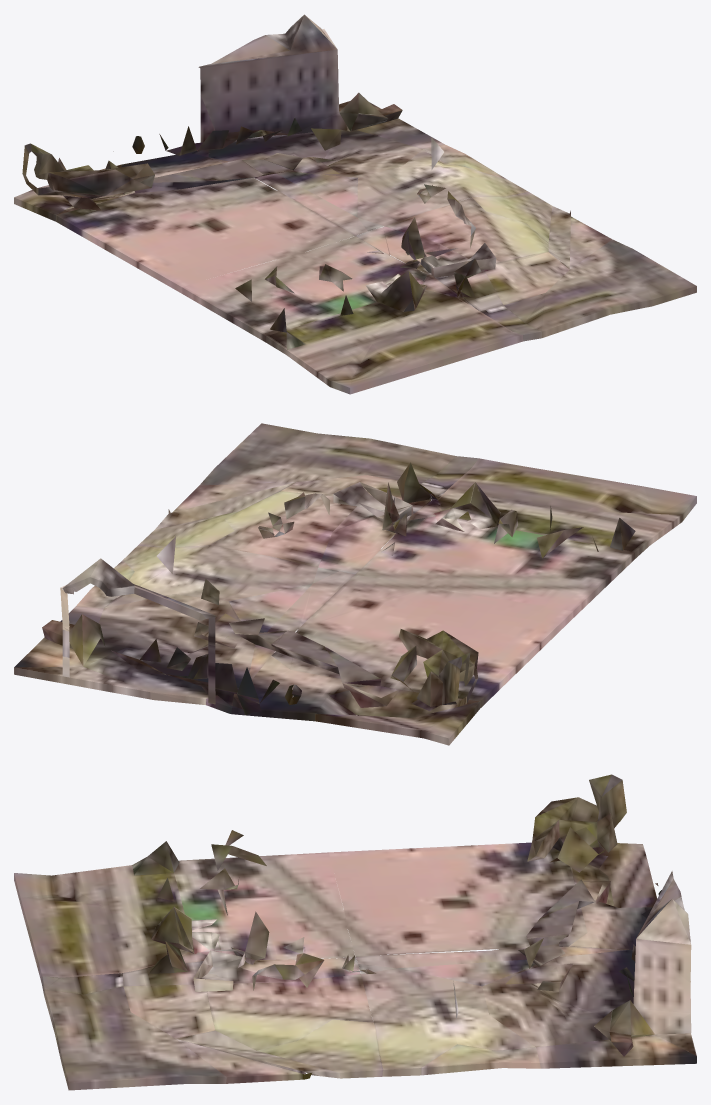
The picture shows the model from 3 angles, top to bottom: view 1: azimuth 30°, elevation 25°; view 2: azimuth 150°, elevation 25°; view 3: azimuth 270°, elevation 25°; orthographic projection. The views are drawn at different scales.
Parts seen in each view (by area): view 1: Mesh_0; view 2: Mesh_0; view 3: Mesh_0.
Part boxes in pixels (<box>): Mesh_0: <box>14,14,696,394</box>; Mesh_0: <box>14,423,696,745</box>; Mesh_0: <box>14,774,696,1090</box>.
Bounding box in the file's own units: 133 × 34.06 × 165.
Materials: 1 (1 with a texture image).
